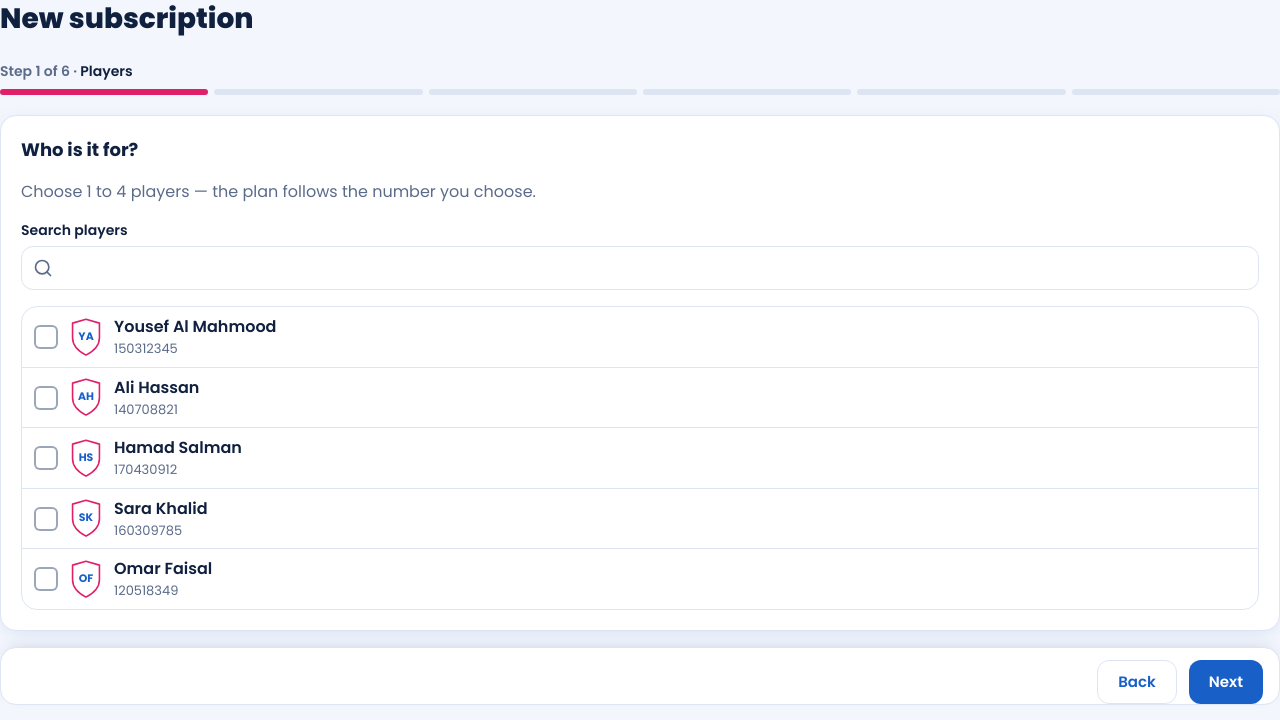
Test: NewSubscriptionPage › step 1 — players › keeps the list on screen while it looks up which players are returning
Click the checkbox named "Yousef Al Mahmood" at [46, 337], box x1=24 y1=315 x2=68 y2=359
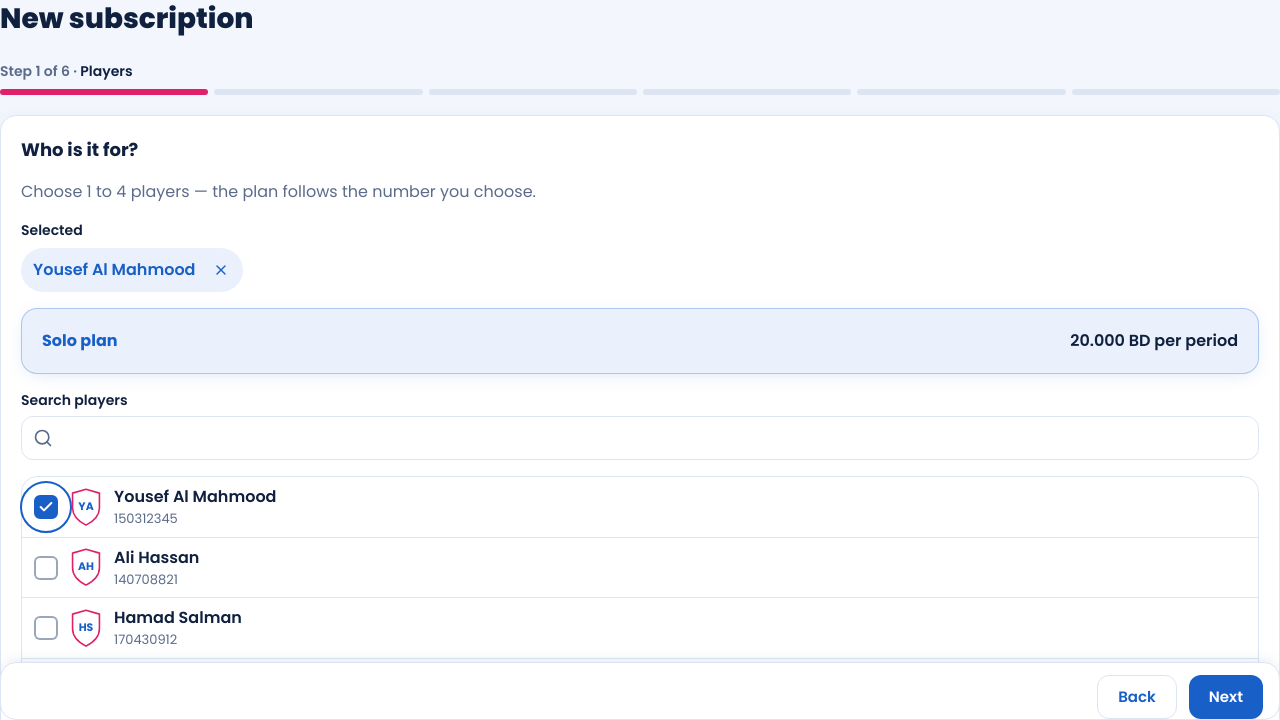
Check: the checkbox named "Ali Hassan" is shown, box x1=24 y1=546 x2=68 y2=590
Check: the text "Solo plan" is shown, box x1=42 y1=329 x2=118 y2=353
